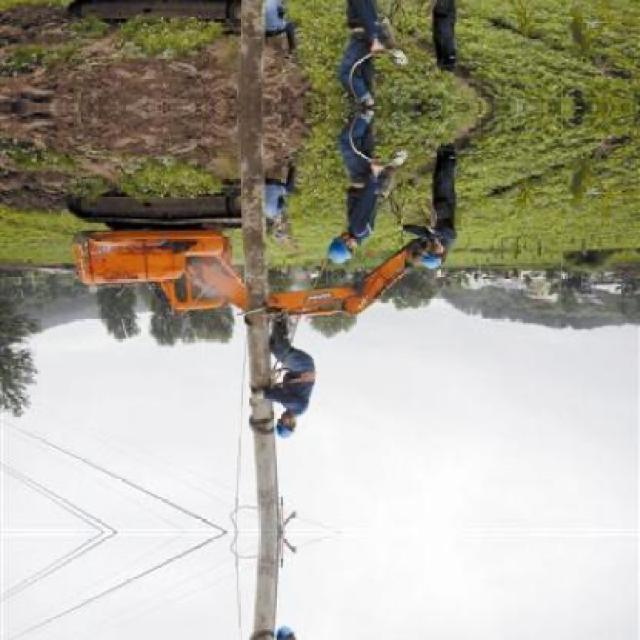con casco: (324, 217, 366, 274), (262, 408, 302, 451), (408, 238, 446, 282)
